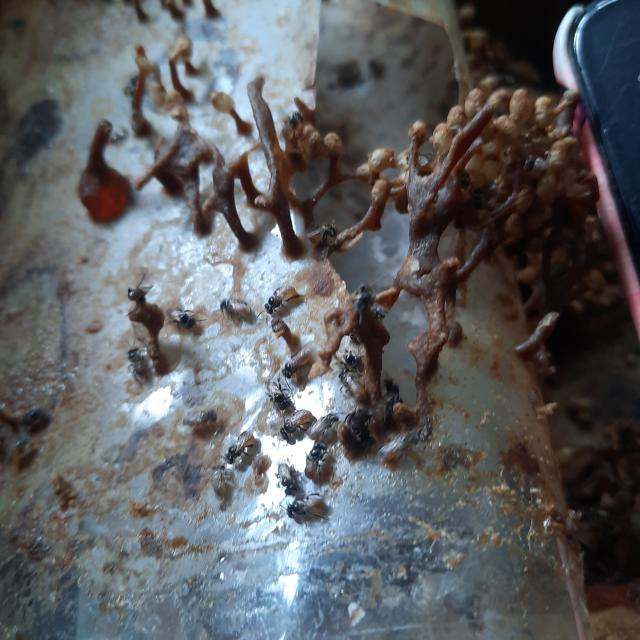honeybee: (117, 345, 167, 392), (283, 492, 334, 532), (307, 212, 348, 258), (216, 432, 257, 476), (256, 283, 302, 321), (164, 297, 205, 337), (270, 459, 306, 502), (214, 294, 256, 330), (279, 337, 318, 374), (259, 378, 299, 414), (299, 436, 330, 482), (348, 282, 383, 319), (278, 406, 314, 441), (110, 281, 162, 305), (332, 346, 363, 386), (285, 106, 301, 130)
